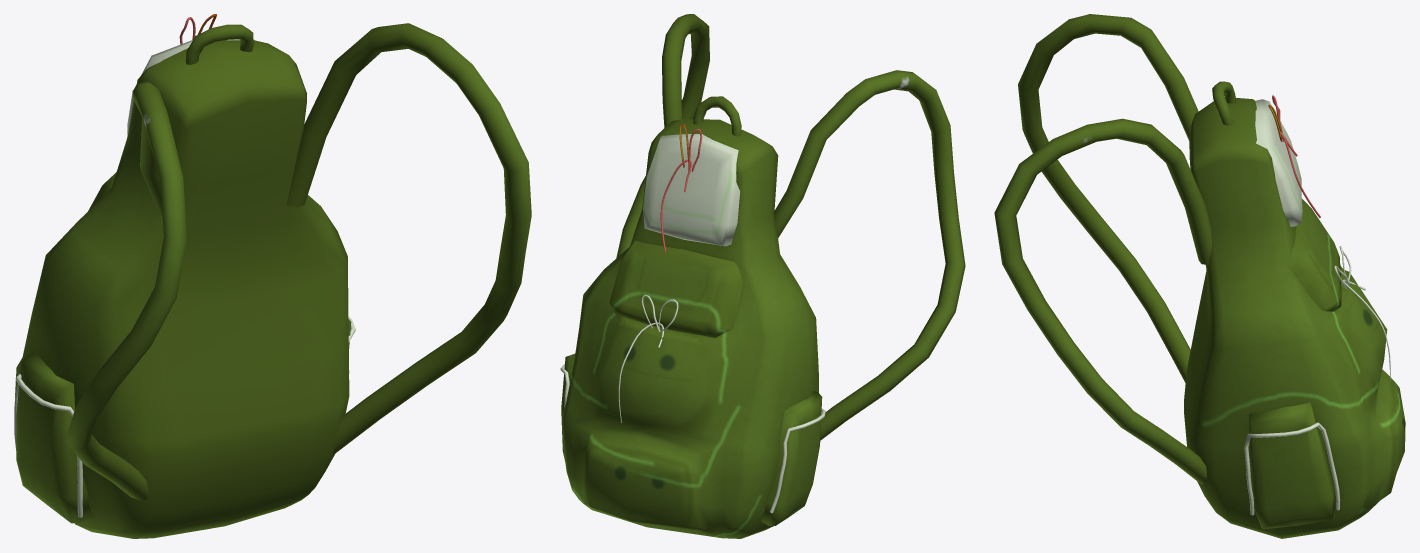
File: defolt bag.fbx
The picture shows the model from 3 angles, left to right: view 1: azimuth 30°, elevation 25°; view 2: azimuth 150°, elevation 25°; view 3: azimuth 270°, elevation 25°; orthographic projection. The views are drawn at different scales.
Parts seen in each view (by area): view 1: pasted__polySurface61; view 2: pasted__polySurface61; view 3: pasted__polySurface61.
Boxes of the visible parts, x1,y1,x2,y2 form: pasted__polySurface61: (14, 14, 531, 538); pasted__polySurface61: (560, 14, 965, 538); pasted__polySurface61: (994, 14, 1405, 538).
Size of the model in its own units: 63.56 by 75.39 by 64.73.
1 material, 1 textured.
